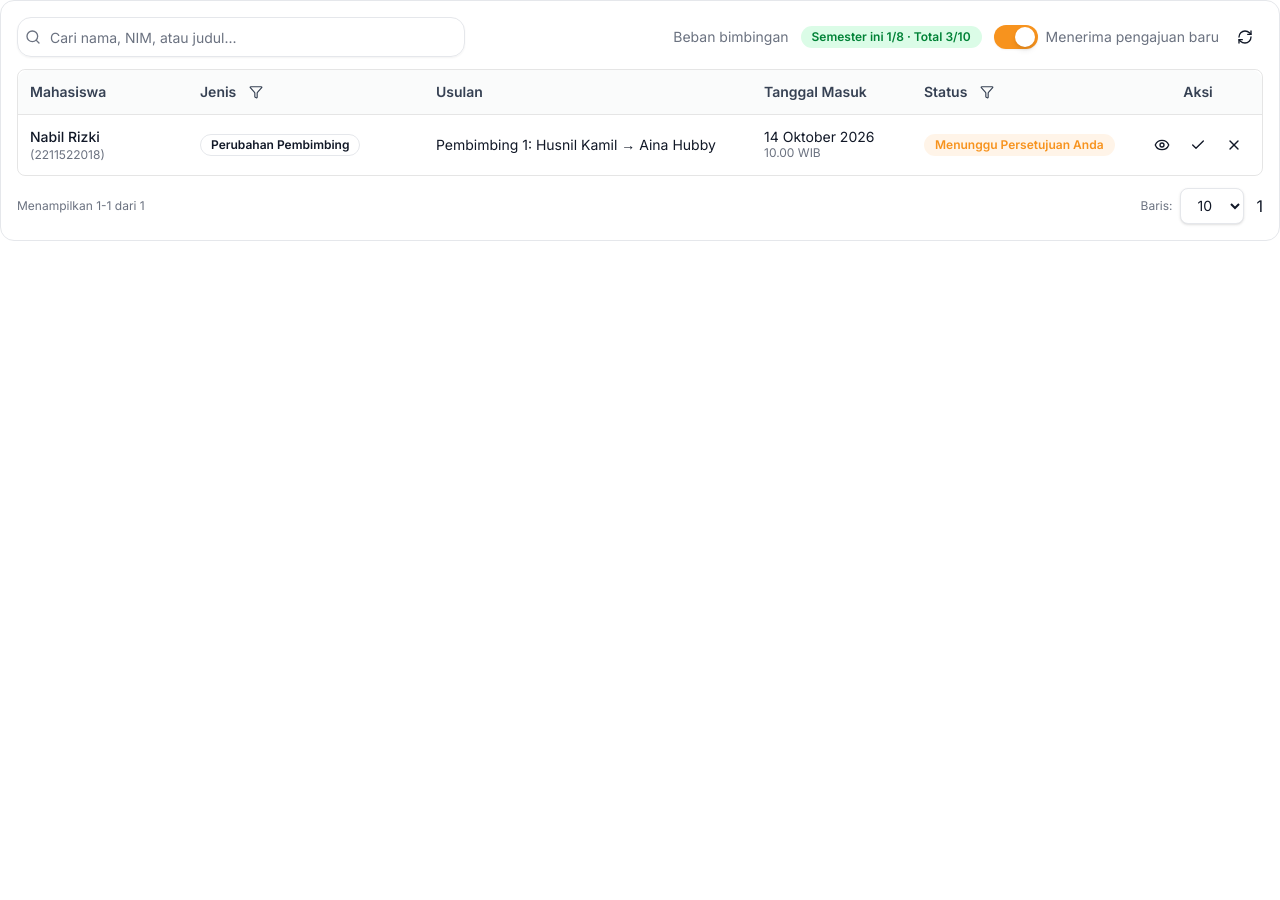
it: Tugas Akhir > Permohonan (the lecturer approval inbox) › The Perubahan TA detail says the lecturer's step on one line above Batal, Tolak, Setujui
Click the button named "Lihat Detail": x=1162, y=144 [1146,128,1178,160]
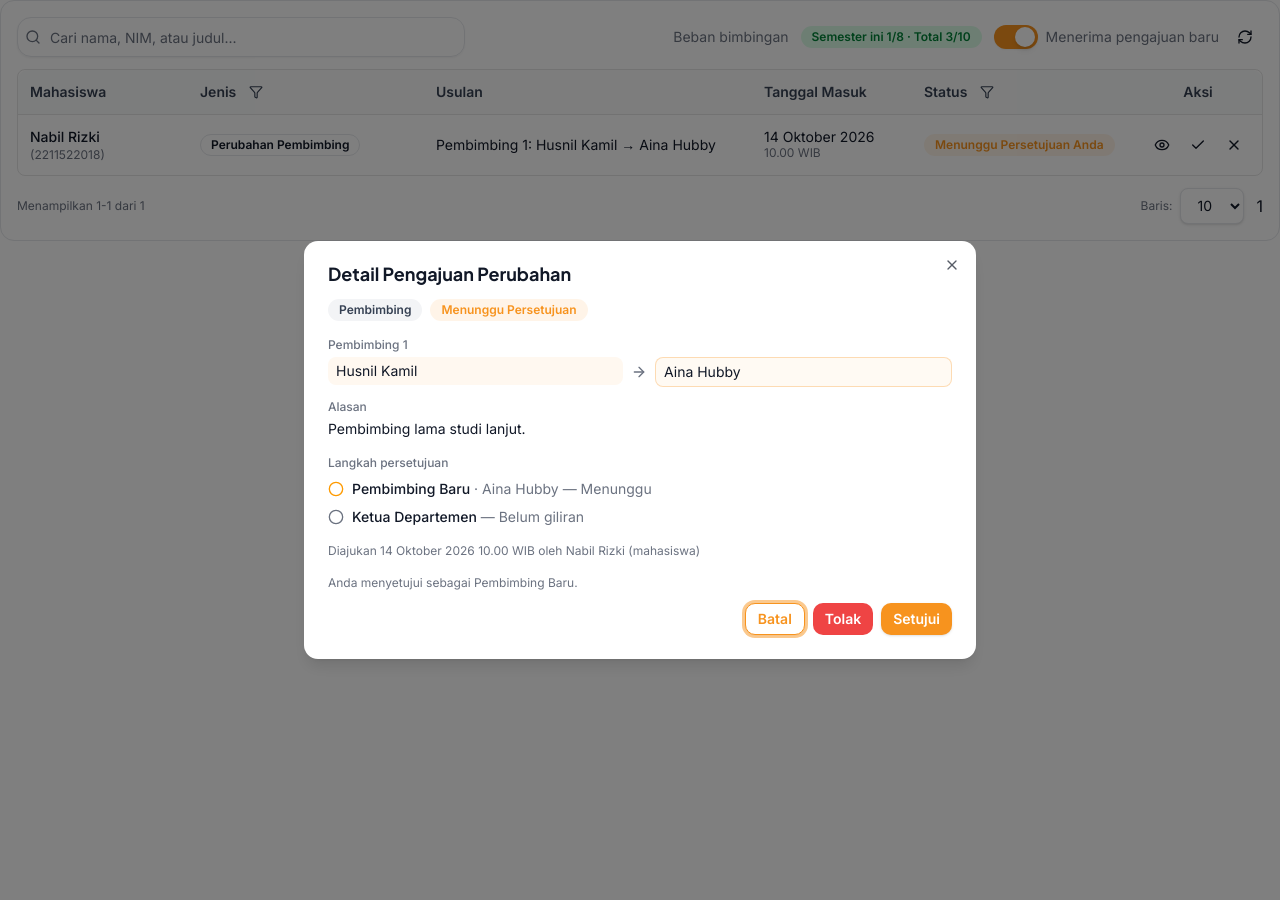
Expected: the text "Anda menyetujui sebagai Pembimbing Baru." is shown, [328,575,578,590]
